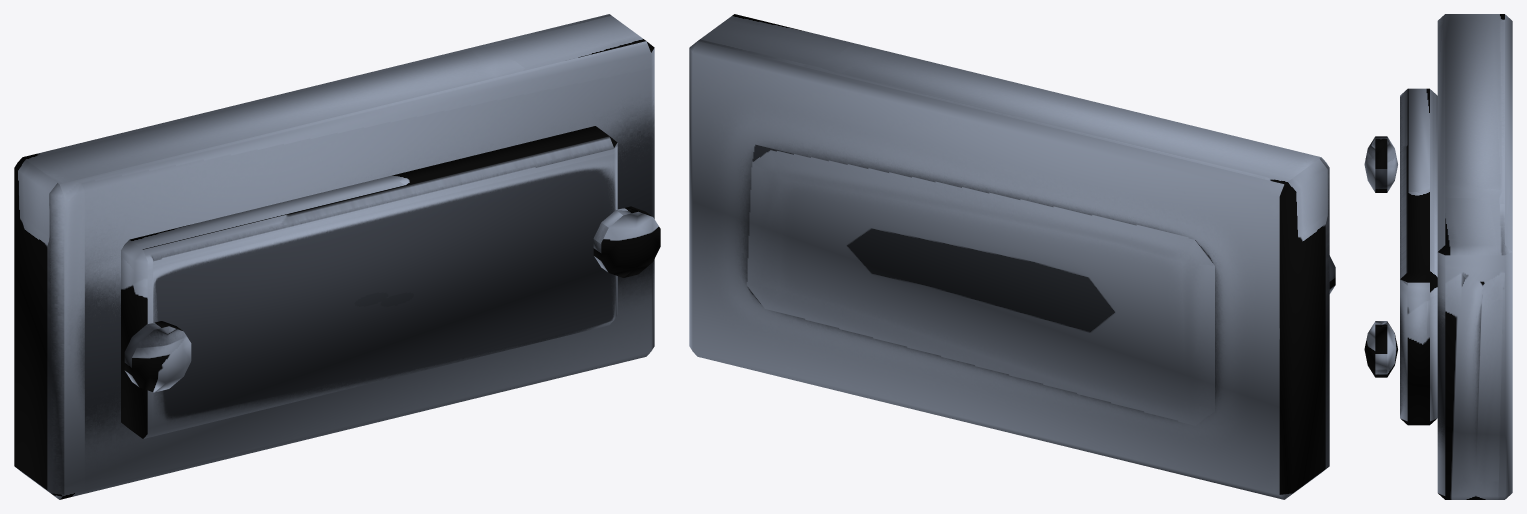
The model's file is Estela_Cadera_Acero.fbx.
3 renders of one model, left to right at view 1: azimuth 30°, elevation 25°; view 2: azimuth 150°, elevation 25°; view 3: azimuth 270°, elevation 25°, orthographic. The views are drawn at different scales.
Parts seen in each view (by area): view 1: Estela_Cadera_Acero; view 2: Estela_Cadera_Acero; view 3: Estela_Cadera_Acero.
Part boxes in pixels (x1,y1,x2,y2): Estela_Cadera_Acero: [14, 14, 660, 499]; Estela_Cadera_Acero: [689, 14, 1335, 499]; Estela_Cadera_Acero: [1364, 14, 1512, 499].
Size of the model in its own units: 0.3214 by 0.1607 by 0.0846.
